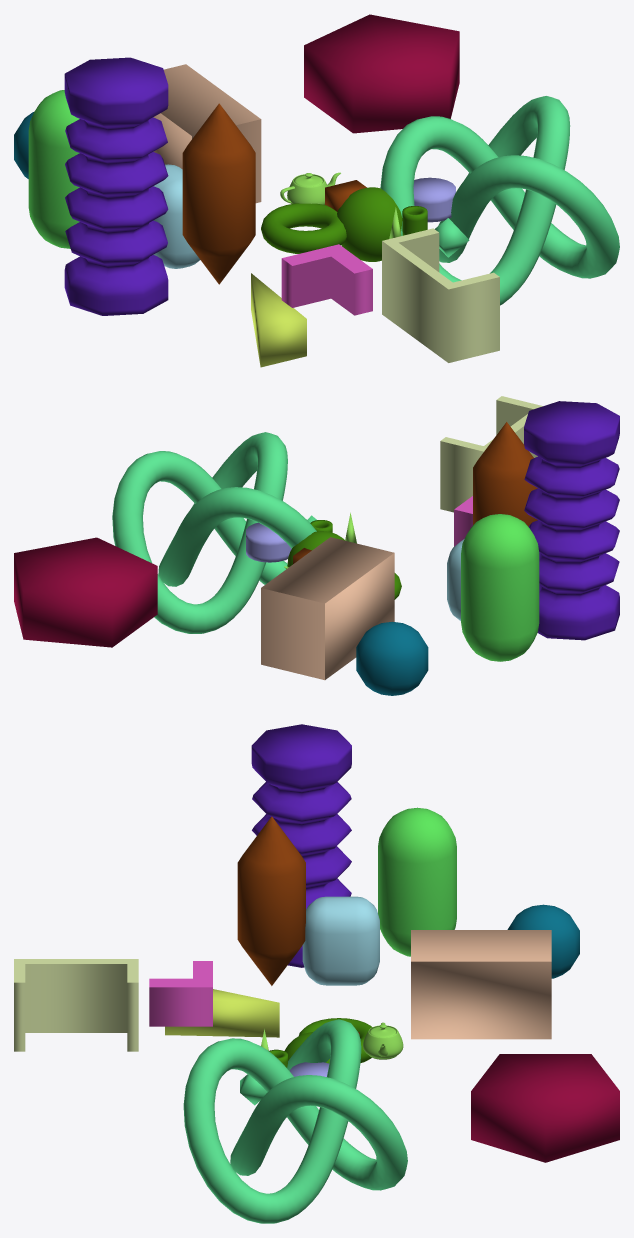
3 views of the same model, one above another, from view 1: azimuth 30°, elevation 25°; view 2: azimuth 150°, elevation 25°; view 3: azimuth 270°, elevation 25° (orthographic). The views are drawn at different scales.
Parts seen in each view (by area): view 1: Hose001, Torus_Knot001, Gengon001, C_Ext001, Spindle001, Capsule001, ChamferBox001, L_Ext001, Prism001, Torus001, Sphere001, ChamferBox002 (+6 smaller); view 2: Torus_Knot001, Hose001, ChamferBox001, Gengon001, Capsule001, Spindle001, OilTank001, C_Ext001, Cylinder001, ChamferBox002, L_Ext001, Sphere001; view 3: Torus_Knot001, ChamferBox001, Gengon001, Hose001, C_Ext001, Capsule001, Spindle001, ChamferBox002, L_Ext001, Prism001, OilTank001, Teapot001.
Boxes of the visible parts, x1=… form: Hose001: x1=64, y1=57, x2=168, y2=315; Torus_Knot001: x1=380, y1=96, x2=619, y2=305; Gengon001: x1=304, y1=14, x2=459, y2=133; C_Ext001: x1=382, y1=228, x2=499, y2=362; Spindle001: x1=182, y1=103, x2=255, y2=284; Capsule001: x1=28, y1=90, x2=79, y2=248; ChamferBox001: x1=153, y1=64, x2=261, y2=203; L_Ext001: x1=281, y1=244, x2=372, y2=315; Prism001: x1=251, y1=273, x2=306, y2=367; Torus001: x1=261, y1=203, x2=346, y2=253; Sphere001: x1=337, y1=187, x2=402, y2=261; ChamferBox002: x1=153, y1=164, x2=200, y2=268; Torus_Knot001: x1=112, y1=432, x2=316, y2=633; Hose001: x1=524, y1=401, x2=619, y2=640; ChamferBox001: x1=261, y1=537, x2=394, y2=680; Gengon001: x1=14, y1=537, x2=157, y2=647; Capsule001: x1=461, y1=514, x2=539, y2=661; Spindle001: x1=473, y1=422, x2=537, y2=526; OilTank001: x1=356, y1=621, x2=428, y2=695; C_Ext001: x1=440, y1=396, x2=542, y2=512; Cylinder001: x1=246, y1=522, x2=291, y2=562; ChamferBox002: x1=447, y1=539, x2=464, y2=620; L_Ext001: x1=454, y1=496, x2=472, y2=546; Sphere001: x1=287, y1=531, x2=344, y2=566; Torus_Knot001: x1=183, y1=1019, x2=407, y2=1223; ChamferBox001: x1=411, y1=930, x2=551, y2=1039; Gengon001: x1=471, y1=1054, x2=619, y2=1162; Hose001: x1=251, y1=724, x2=351, y2=967; C_Ext001: x1=14, y1=959, x2=138, y2=1051; Capsule001: x1=378, y1=807, x2=456, y2=956; Spindle001: x1=237, y1=816, x2=305, y2=985; ChamferBox002: x1=302, y1=896, x2=379, y2=985; L_Ext001: x1=149, y1=961, x2=212, y2=1026; Prism001: x1=165, y1=989, x2=279, y2=1037; OilTank001: x1=507, y1=904, x2=579, y2=978; Teapot001: x1=363, y1=1022, x2=403, y2=1059.
Bounding box in the file's own units: 346 × 186 × 373.
